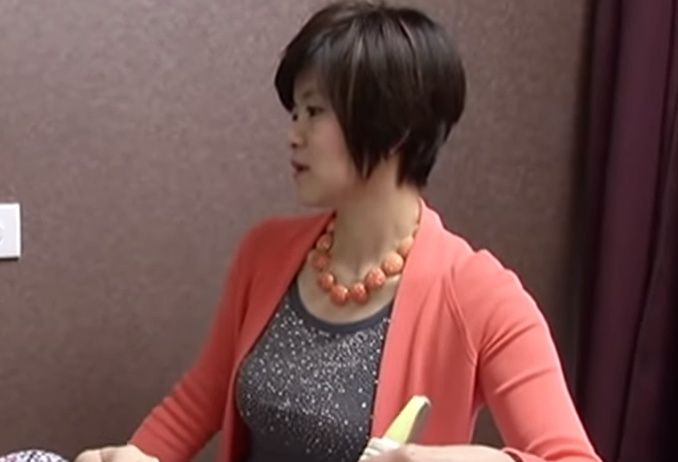mouth: (289, 159, 310, 178)
nose: (284, 135, 305, 149)
